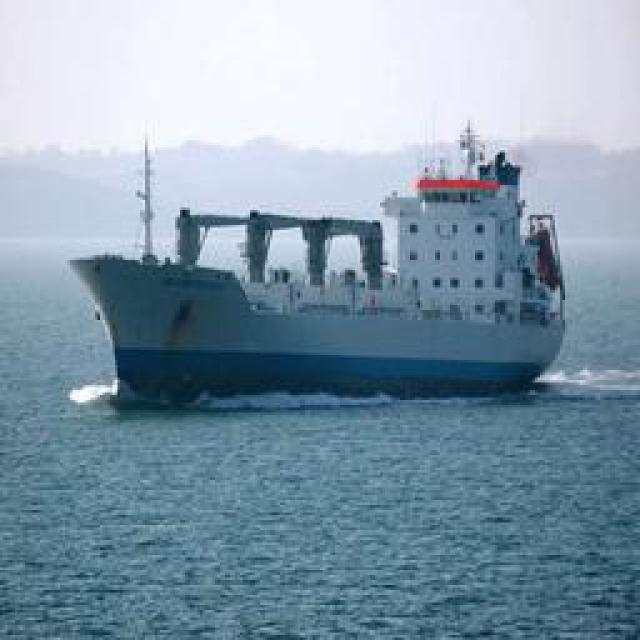Ship: (71, 118, 566, 403)
